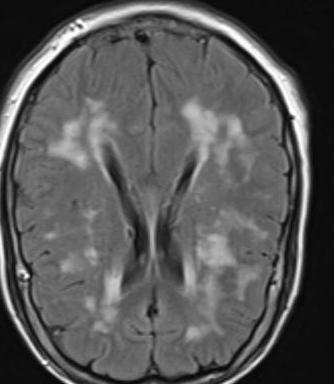Normal_Brain: (1, 1, 334, 384)
